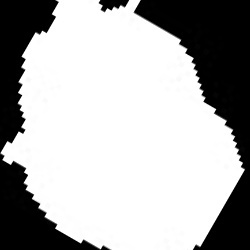spot: (2, 2, 244, 205)
